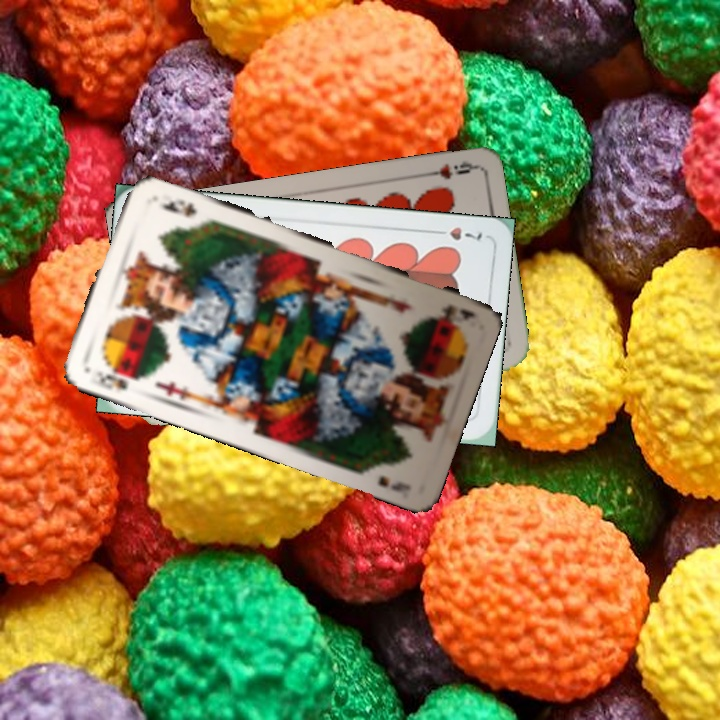H7: (428, 223, 487, 244)
H9: (417, 157, 477, 182)
SK: (92, 365, 142, 393), (437, 301, 477, 323)
